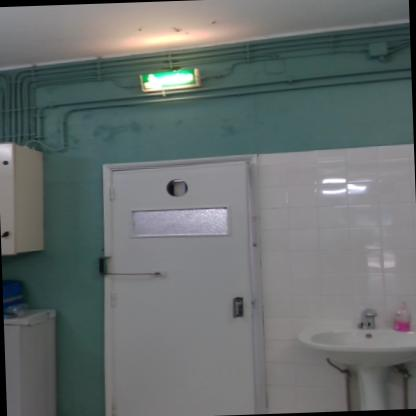closed: (83, 143, 276, 416)
